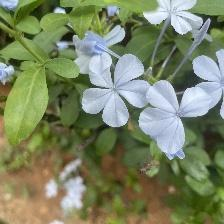chitrak: (140, 80, 209, 157), (78, 58, 149, 127), (143, 1, 207, 36), (196, 49, 224, 122)
